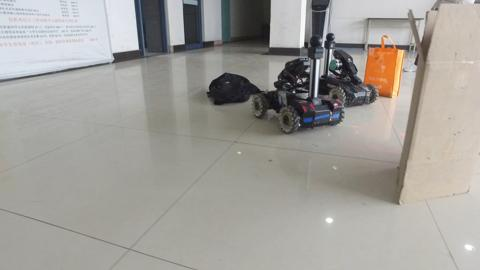bag: (368, 36, 405, 99)
chariot: (257, 39, 348, 132), (325, 30, 375, 104)
